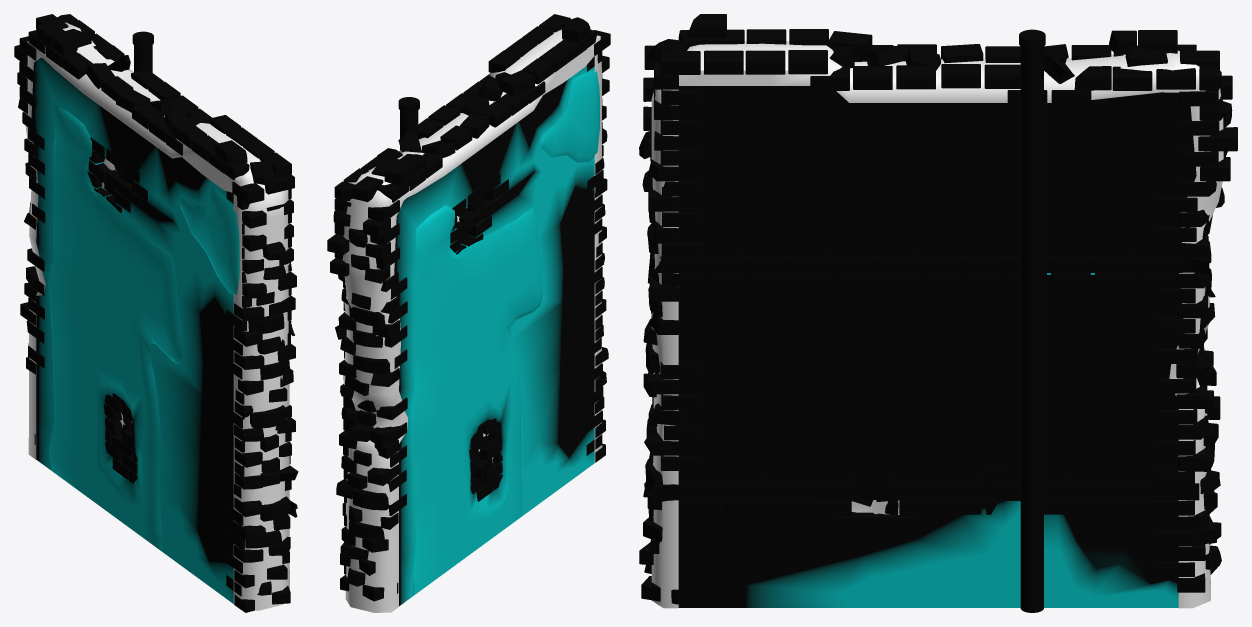
Rendered from Fence5.fbx.
The picture shows the model from 3 angles, left to right: view 1: azimuth 30°, elevation 25°; view 2: azimuth 150°, elevation 25°; view 3: azimuth 270°, elevation 25°; orthographic projection. The views are drawn at different scales.
Visible parts, largest first — view 1: SM_Ind_WL_Br_4mStraight01.mo; view 2: SM_Ind_WL_Br_4mStraight01.mo; view 3: SM_Ind_WL_Br_4mStraight01.mo.
Part boxes in pixels (left/top/right/bottom): SM_Ind_WL_Br_4mStraight01.mo: left=14, top=14, right=298, bottom=612; SM_Ind_WL_Br_4mStraight01.mo: left=327, top=14, right=610, bottom=612; SM_Ind_WL_Br_4mStraight01.mo: left=639, top=14, right=1237, bottom=612.
Size of the model in its own units: 67.03 by 475 by 450.
